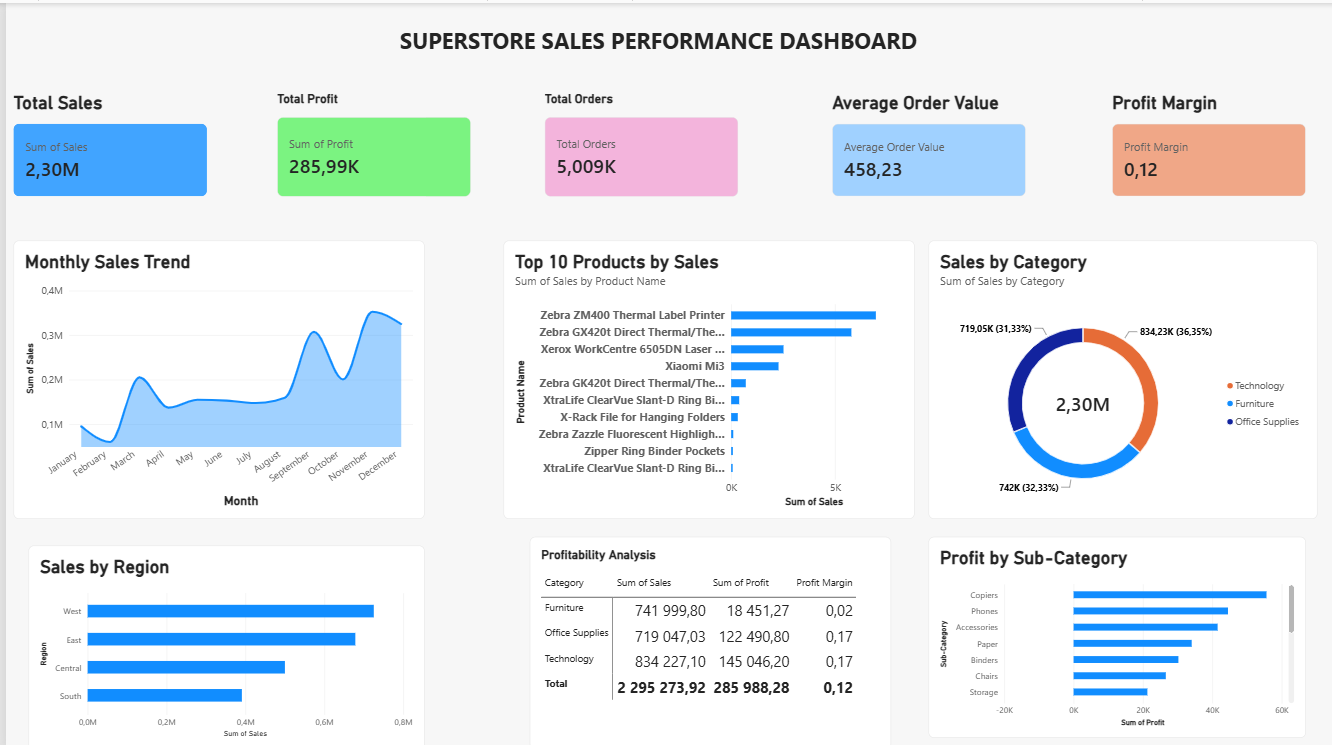

This screenshot's page, from the dashboard's own definition file:
{"tool":"powerbi","page":{"name":"Page 1","canvas":[1920,1080],"ordinal":0},"visuals":[{"type":"cardVisual","title":"Total Sales","fields":{"Data":["Sum(Superstore.Sales)"]},"box":[10.7,128.1,280.3,152.2],"z":0},{"type":"cardVisual","title":"Total Profit","fields":{"Data":["Sum(Superstore.Profit)"]},"box":[392.4,128.1,280,152],"z":1000},{"type":"cardVisual","title":"Total Orders","fields":{"Data":["Superstore.Total Orders"]},"box":[779.5,128.1,280,152],"z":2000},{"type":"cardVisual","title":"Average Order Value","fields":{"Data":["Superstore.Average Order Value"]},"box":[1196,128.1,280,152],"z":3000},{"type":"cardVisual","title":"Profit Margin","fields":{"Data":["Superstore.Profit Margin"]},"box":[1601.8,128.1,280,152],"z":4000},{"type":"lineChart","title":"Monthly Sales Trend","fields":{"Category":["Superstore.Order Date.Variation.Date Hierarchy.Month"],"Y":["Sum(Superstore.Sales)"]},"box":[10.9,343.8,595.4,403.6],"z":5000},{"type":"clusteredBarChart","title":"Top 10 Products by Sales","fields":{"Category":["Superstore.Product Name"],"Y":["Sum(Superstore.Sales)"]},"box":[720.2,343.8,595.4,403.6],"z":6000},{"type":"textbox","box":[11,773,595,307],"z":7000},{"type":"donutChart","title":"Sales by Category","fields":{"Category":["Superstore.Category"],"Y":["Sum(Superstore.Sales)"]},"box":[1335.5,343.8,562.8,403.6],"z":8000},{"type":"barChart","title":"Sales by Region","fields":{"Category":["Superstore.Region"],"Y":["Sum(Superstore.Sales)"]},"box":[32.6,785.4,573.7,295],"z":9000},{"type":"pivotTable","title":"Profitability Analysis","fields":{"Rows":["Superstore.Category"],"Values":["Sum(Superstore.Sales)","Sum(Superstore.Profit)","Superstore.Profit Margin"]},"box":[758.2,772.7,523,307.6],"z":10000},{"type":"barChart","title":"Profit by Sub-Category","fields":{"Category":["Superstore.Sub-Category"],"Y":["Sum(Superstore.Profit)"]},"box":[1335.5,772.7,546.5,291.4],"z":11000},{"type":"textbox","box":[392.7,0,1084,94.1],"z":11001}]}

Visuals, with their boxes in screenshot pixels (x1, y1, x2, y2), scaled from the page's 1920x1080 canvas onto the 1332x745 screenshot:
"Total Sales" cardVisual: Rect(7, 88, 202, 193)
"Total Profit" cardVisual: Rect(272, 88, 466, 193)
"Total Orders" cardVisual: Rect(541, 88, 735, 193)
"Average Order Value" cardVisual: Rect(830, 88, 1024, 193)
"Profit Margin" cardVisual: Rect(1111, 88, 1305, 193)
"Monthly Sales Trend" lineChart: Rect(8, 237, 421, 516)
"Top 10 Products by Sales" clusteredBarChart: Rect(500, 237, 913, 516)
textbox: Rect(8, 533, 420, 744)
"Sales by Category" donutChart: Rect(927, 237, 1317, 516)
"Sales by Region" barChart: Rect(23, 542, 421, 744)
"Profitability Analysis" pivotTable: Rect(526, 533, 889, 744)
"Profit by Sub-Category" barChart: Rect(927, 533, 1306, 734)
textbox: Rect(272, 0, 1024, 65)
